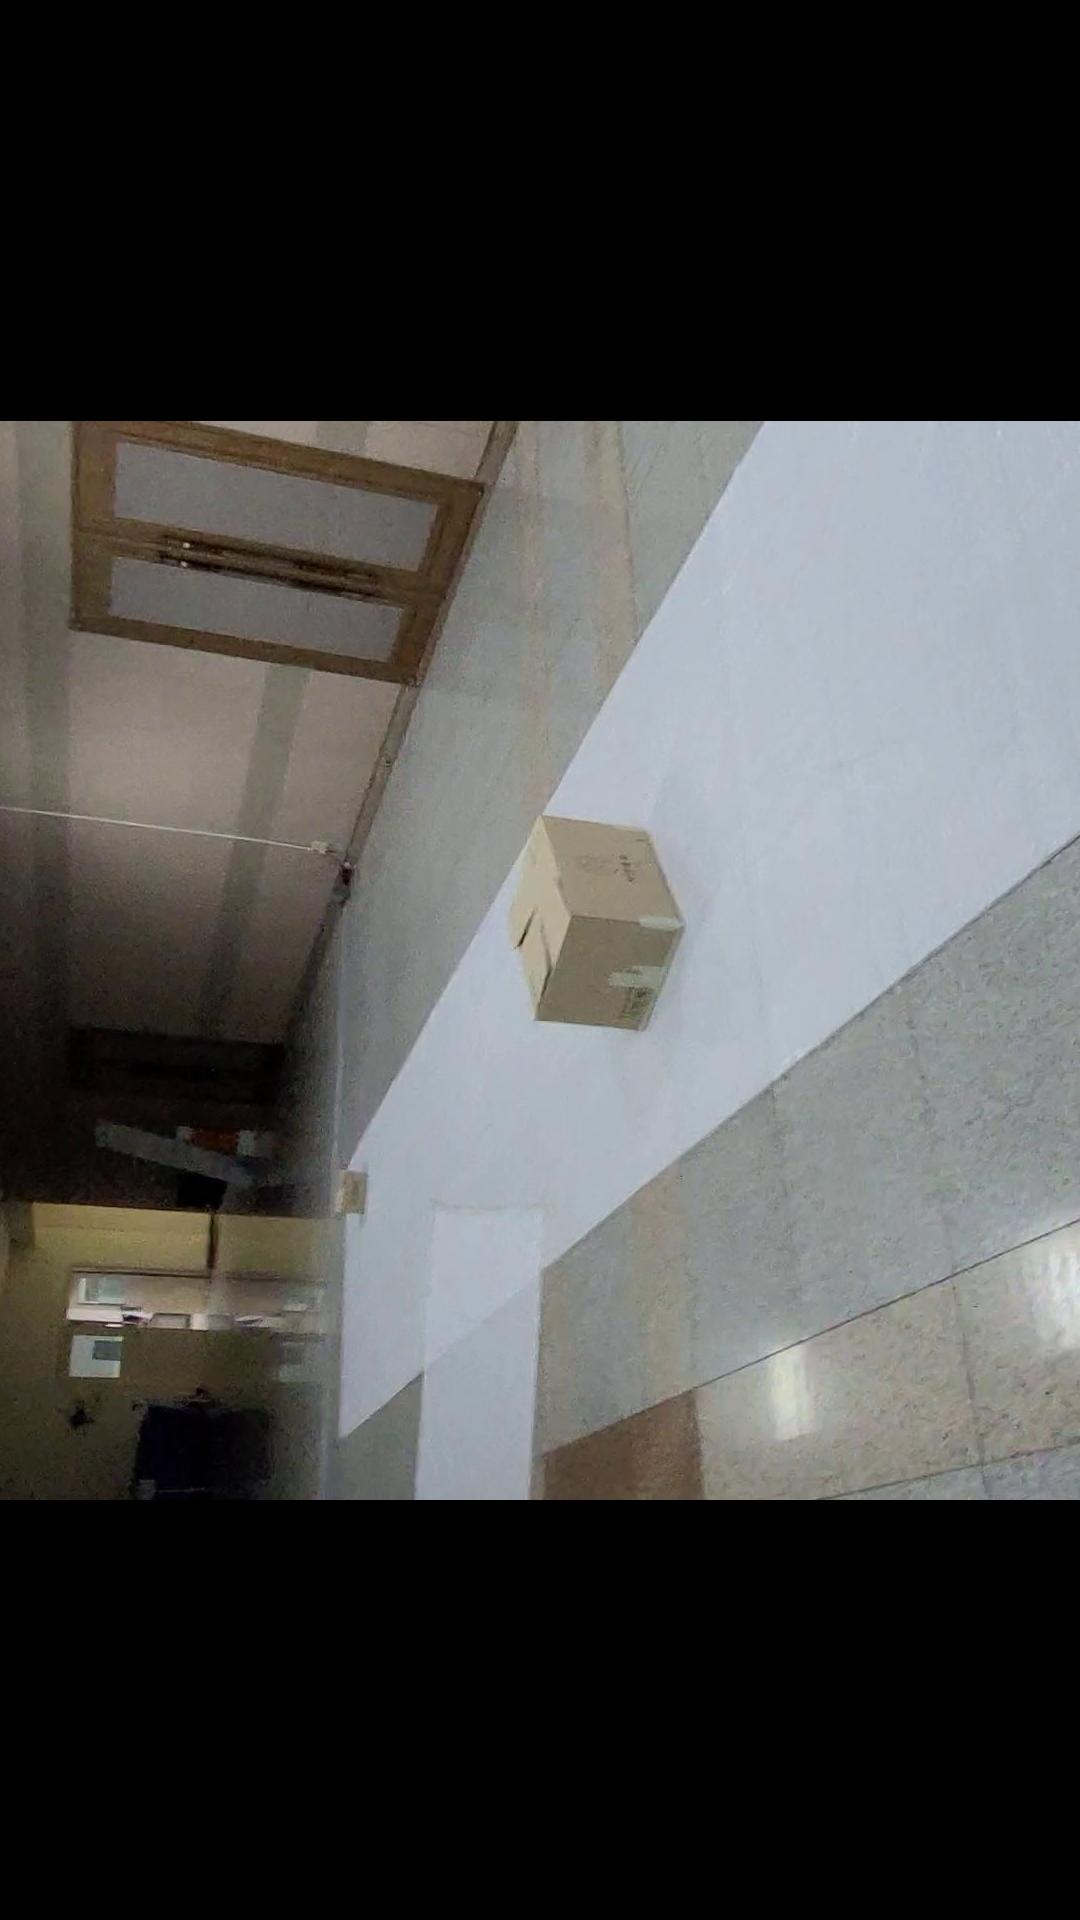Box: (488, 785, 717, 1059), (310, 1131, 392, 1244)
